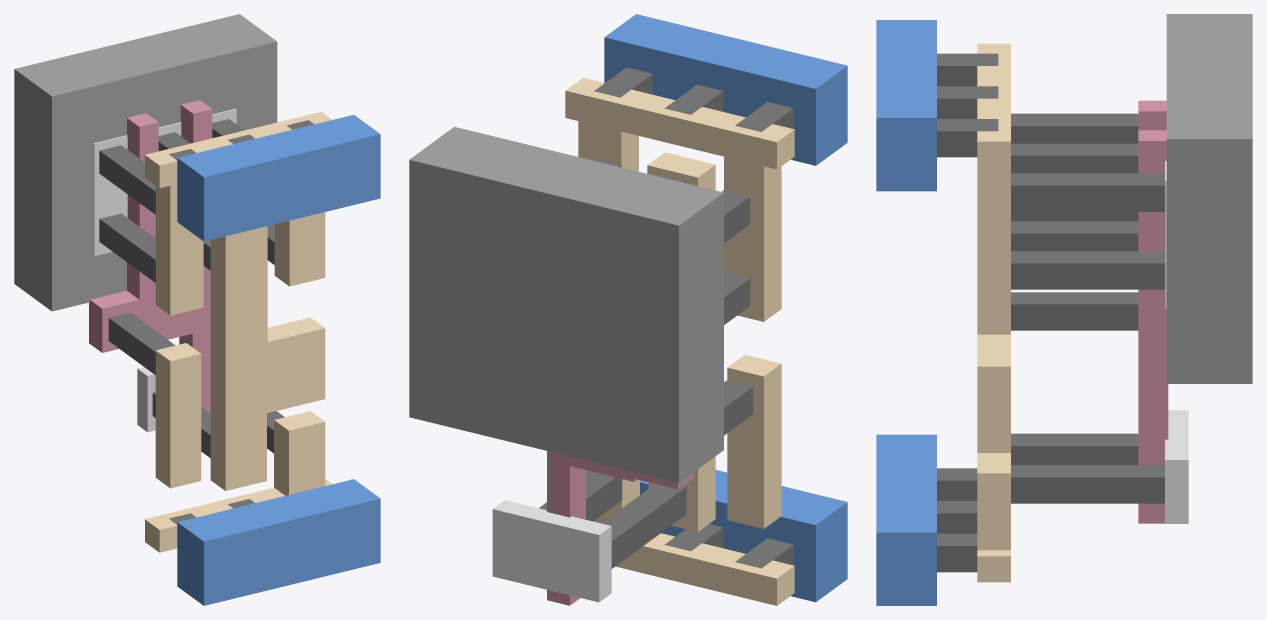
Rendered from sky130_fd_sc_hd__clkinv_1.gds.gltf.
The picture shows the model from 3 angles, left to right: view 1: azimuth 30°, elevation 25°; view 2: azimuth 150°, elevation 25°; view 3: azimuth 270°, elevation 25°; orthographic projection. The views are drawn at different scales.
Parts seen in each view (by area): view 1: sky130_fd_sc_hd__clkinv_1_li1, sky130_fd_sc_hd__clkinv_1_nwell, sky130_fd_sc_hd__clkinv_1_met1, sky130_fd_sc_hd__clkinv_1_poly, sky130_fd_sc_hd__clkinv_1_licon, sky130_fd_sc_hd__clkinv_1_diff, sky130_fd_sc_hd__clkinv_1_mcon; view 2: sky130_fd_sc_hd__clkinv_1_nwell, sky130_fd_sc_hd__clkinv_1_li1, sky130_fd_sc_hd__clkinv_1_met1, sky130_fd_sc_hd__clkinv_1_diff, sky130_fd_sc_hd__clkinv_1_licon, sky130_fd_sc_hd__clkinv_1_mcon, sky130_fd_sc_hd__clkinv_1_poly; view 3: sky130_fd_sc_hd__clkinv_1_licon, sky130_fd_sc_hd__clkinv_1_nwell, sky130_fd_sc_hd__clkinv_1_met1, sky130_fd_sc_hd__clkinv_1_li1, sky130_fd_sc_hd__clkinv_1_mcon, sky130_fd_sc_hd__clkinv_1_poly, sky130_fd_sc_hd__clkinv_1_diff.
Boxes of the visible parts, bbox=[...] form: sky130_fd_sc_hd__clkinv_1_li1: bbox=[145, 111, 332, 552]; sky130_fd_sc_hd__clkinv_1_nwell: bbox=[14, 14, 277, 311]; sky130_fd_sc_hd__clkinv_1_met1: bbox=[177, 115, 380, 605]; sky130_fd_sc_hd__clkinv_1_poly: bbox=[89, 100, 212, 413]; sky130_fd_sc_hd__clkinv_1_licon: bbox=[99, 119, 284, 457]; sky130_fd_sc_hd__clkinv_1_diff: bbox=[93, 108, 236, 432]; sky130_fd_sc_hd__clkinv_1_mcon: bbox=[169, 120, 313, 524]; sky130_fd_sc_hd__clkinv_1_nwell: bbox=[409, 127, 723, 482]; sky130_fd_sc_hd__clkinv_1_li1: bbox=[565, 78, 794, 605]; sky130_fd_sc_hd__clkinv_1_met1: bbox=[604, 14, 847, 602]; sky130_fd_sc_hd__clkinv_1_diff: bbox=[492, 500, 611, 602]; sky130_fd_sc_hd__clkinv_1_licon: bbox=[539, 159, 753, 568]; sky130_fd_sc_hd__clkinv_1_mcon: bbox=[594, 67, 793, 568]; sky130_fd_sc_hd__clkinv_1_poly: bbox=[547, 451, 693, 605]; sky130_fd_sc_hd__clkinv_1_licon: bbox=[1011, 113, 1164, 503]; sky130_fd_sc_hd__clkinv_1_nwell: bbox=[1166, 14, 1252, 383]; sky130_fd_sc_hd__clkinv_1_met1: bbox=[876, 20, 936, 605]; sky130_fd_sc_hd__clkinv_1_li1: bbox=[977, 43, 1010, 582]; sky130_fd_sc_hd__clkinv_1_mcon: bbox=[937, 53, 998, 572]; sky130_fd_sc_hd__clkinv_1_poly: bbox=[1138, 100, 1168, 523]; sky130_fd_sc_hd__clkinv_1_diff: bbox=[1165, 161, 1188, 523].
Size of the model in its own units: 1.76 by 3.2 by 2.24.
